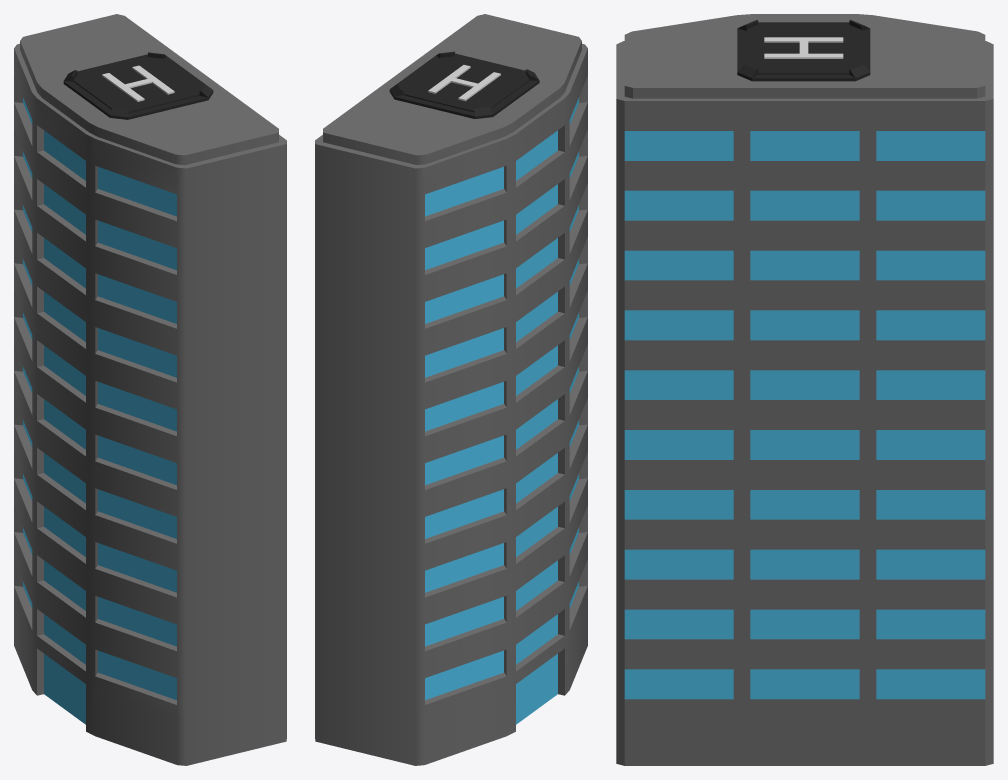
File: Skyscraper_03.fbx
3 renders of one model, left to right at view 1: azimuth 30°, elevation 25°; view 2: azimuth 150°, elevation 25°; view 3: azimuth 270°, elevation 25°, orthographic. The views are drawn at different scales.
Visible parts, largest first — view 1: Skyscraper_03; view 2: Skyscraper_03; view 3: Skyscraper_03.
Boxes of the visible parts, bbox=[...] form: Skyscraper_03: bbox=[14, 14, 286, 765]; Skyscraper_03: bbox=[315, 14, 587, 765]; Skyscraper_03: bbox=[616, 14, 993, 765].
Bounding box in the file's own units: 21.81 × 88.75 × 44.37.
